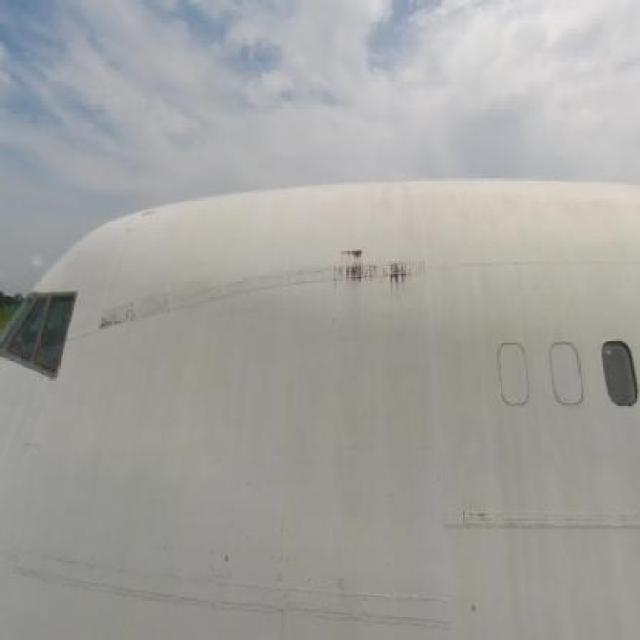Rust: (335, 236, 422, 302)
Scartch: (99, 282, 152, 340)
